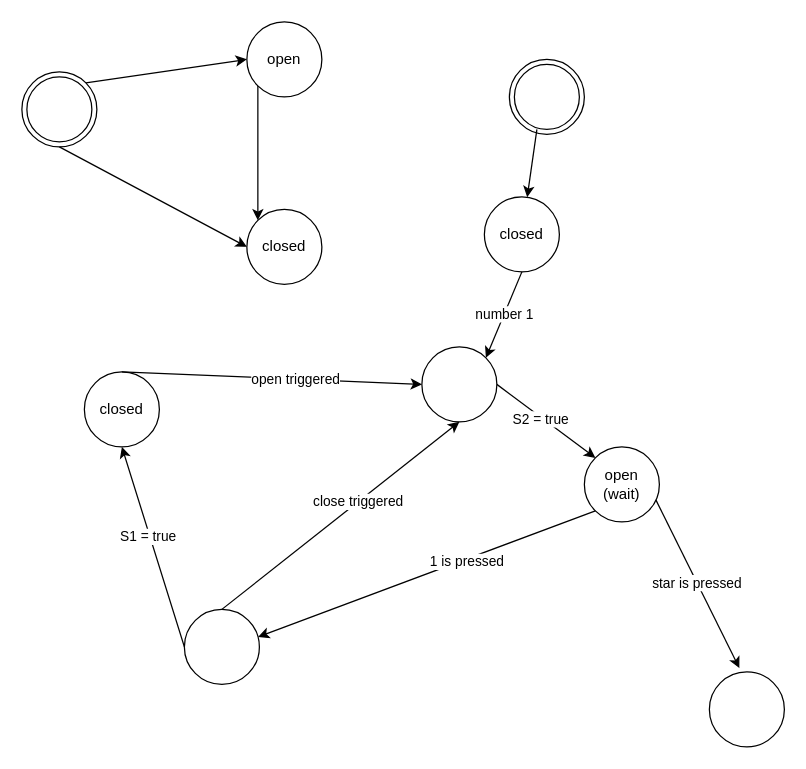
The diagram is 806 pixels wide and 769 high, and some of its shapes have lost their labels. Each missing label, with the centre of its shape:
"closing" belongs at [221,646].
"Create Pin" belongs at [746,709].
"opening" belongs at [459,384].
